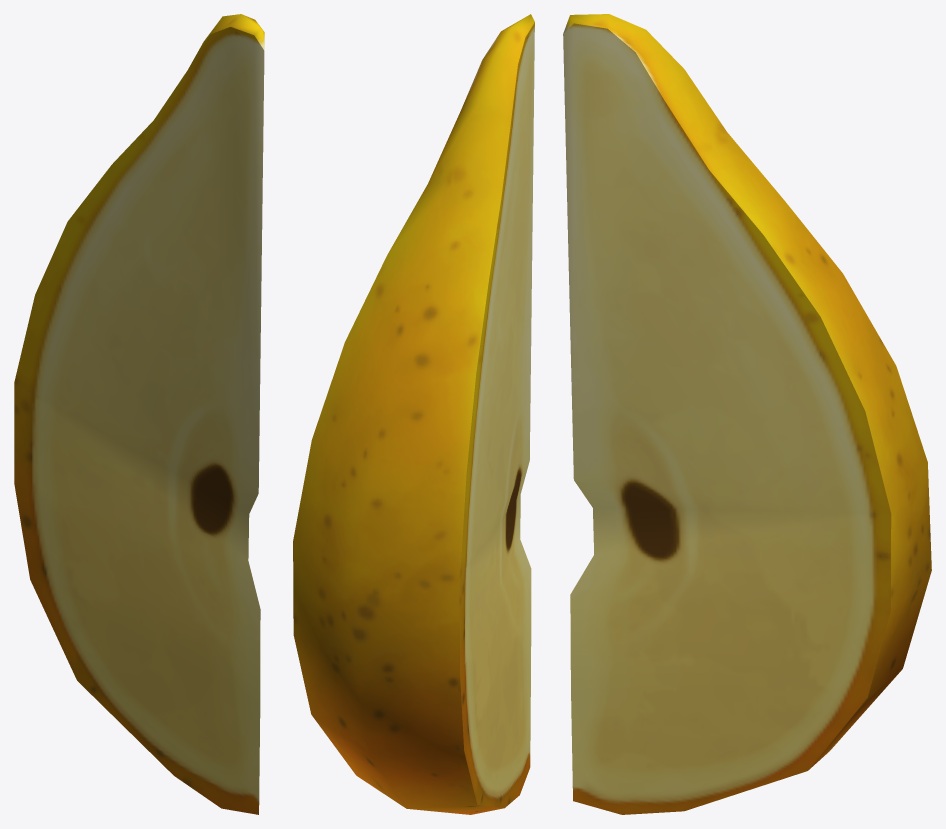
Rendered from SM_PearYellowSlice.fbx.
The picture shows the model from 3 angles, left to right: view 1: azimuth 30°, elevation 25°; view 2: azimuth 150°, elevation 25°; view 3: azimuth 270°, elevation 25°; orthographic projection. The views are drawn at different scales.
Parts seen in each view (by area): view 1: SM_PearYellowSlice; view 2: SM_PearYellowSlice; view 3: SM_PearYellowSlice.
Part boxes in pixels (left/top/right/bottom): SM_PearYellowSlice: left=14, top=14, right=264, bottom=814; SM_PearYellowSlice: left=293, top=14, right=534, bottom=814; SM_PearYellowSlice: left=563, top=14, right=931, bottom=814.
Size of the model in its own units: 3.5 by 15.26 by 6.39.
